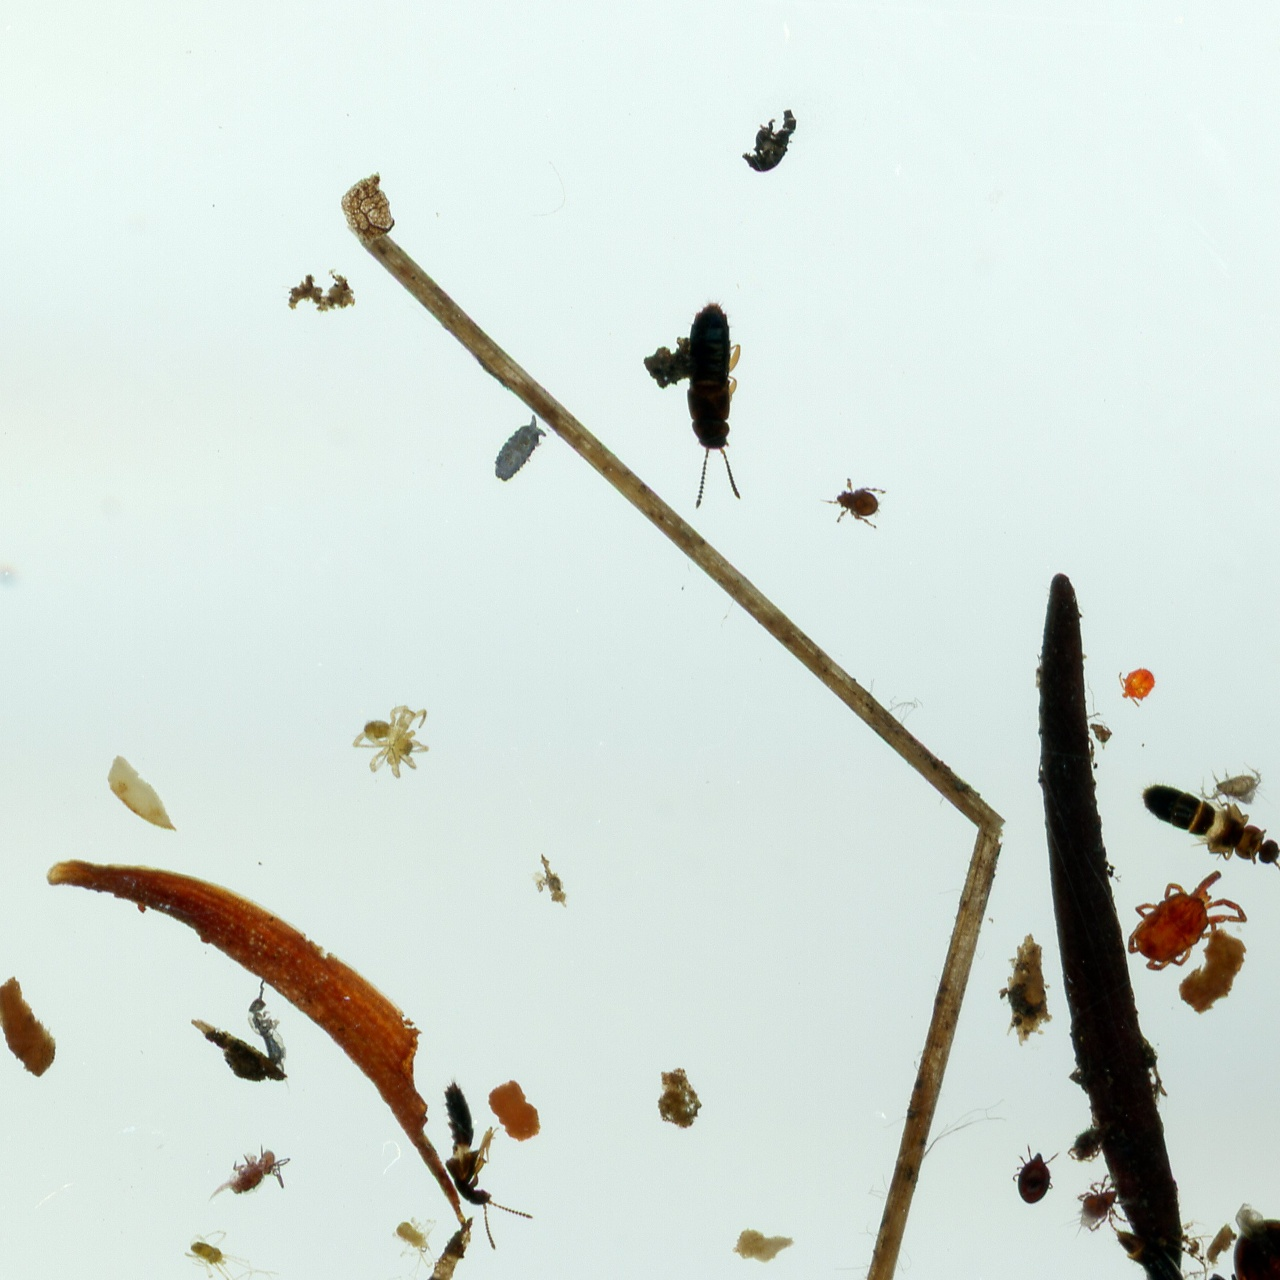arthropod: (1143, 782, 1280, 903), (444, 1080, 536, 1251), (1128, 870, 1250, 972), (687, 293, 742, 509), (184, 1230, 316, 1280), (353, 703, 429, 781), (1114, 1231, 1231, 1280), (210, 1142, 292, 1203), (370, 1217, 438, 1280), (250, 974, 288, 1073), (495, 413, 549, 481), (1073, 1175, 1131, 1235), (1234, 1204, 1280, 1280), (823, 478, 887, 530), (1012, 1145, 1060, 1205), (1201, 762, 1264, 805), (1118, 667, 1157, 708), (1069, 1123, 1109, 1160), (1198, 1273, 1248, 1280)
